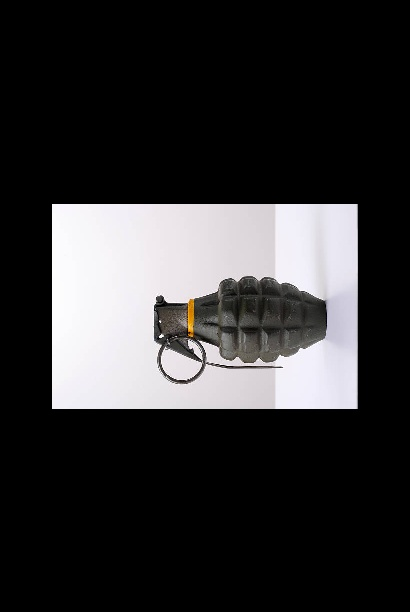e1: (150, 272, 326, 387)
